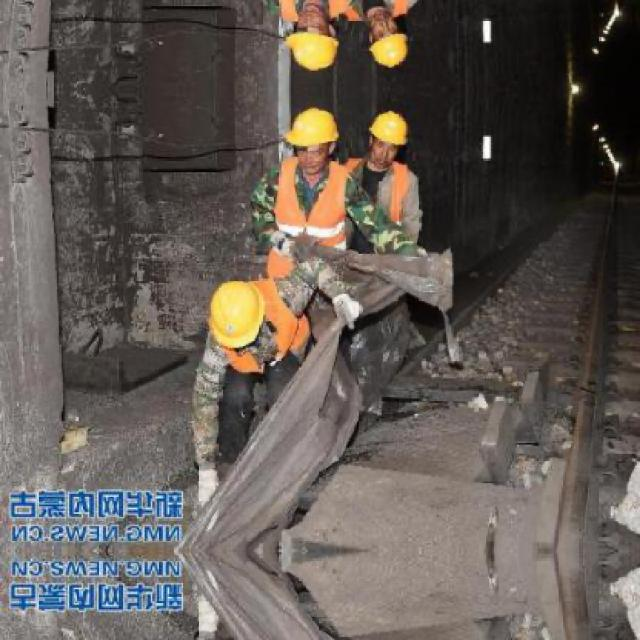helmet: (208, 275, 269, 357), (283, 103, 343, 171), (283, 5, 343, 72), (366, 12, 411, 71), (366, 105, 411, 163)
